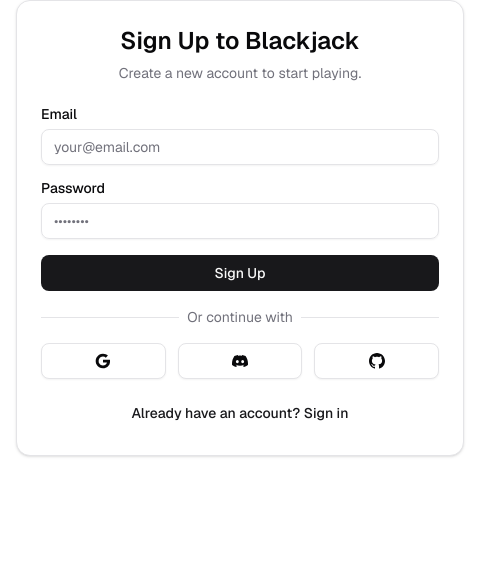
Test case: AuthForm › shows account exists error when user already exists during signup (obfuscated response)
Type "test@example.com" into the field labelled "Email" at (240, 147), box x1=41 y1=129 x2=439 y2=165
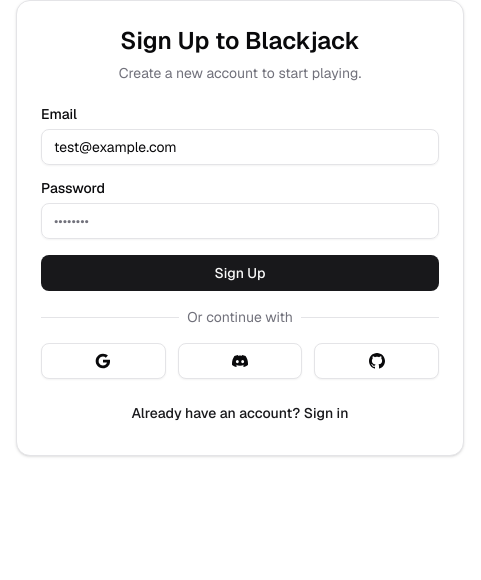
Type "password123" into the password field labelled "Password" at (240, 221), box x1=41 y1=203 x2=439 y2=239
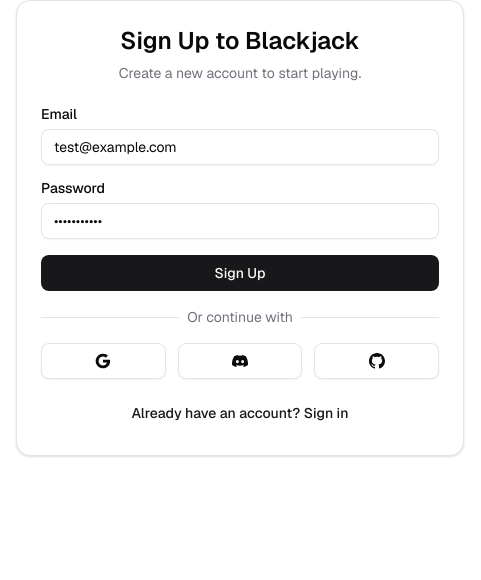
Click the button "Sign Up" at (240, 273), box x1=41 y1=255 x2=439 y2=291
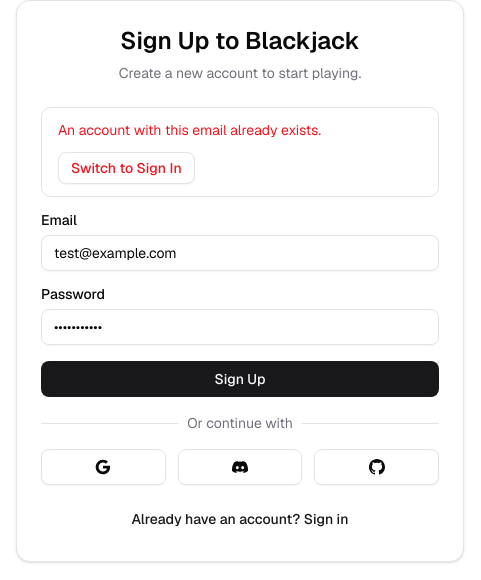
Expected: the text "An account with this email already exists." is shown, x1=58 y1=121 x2=321 y2=139
Expected: the button "Switch to Sign In" is shown, x1=58 y1=152 x2=195 y2=184
